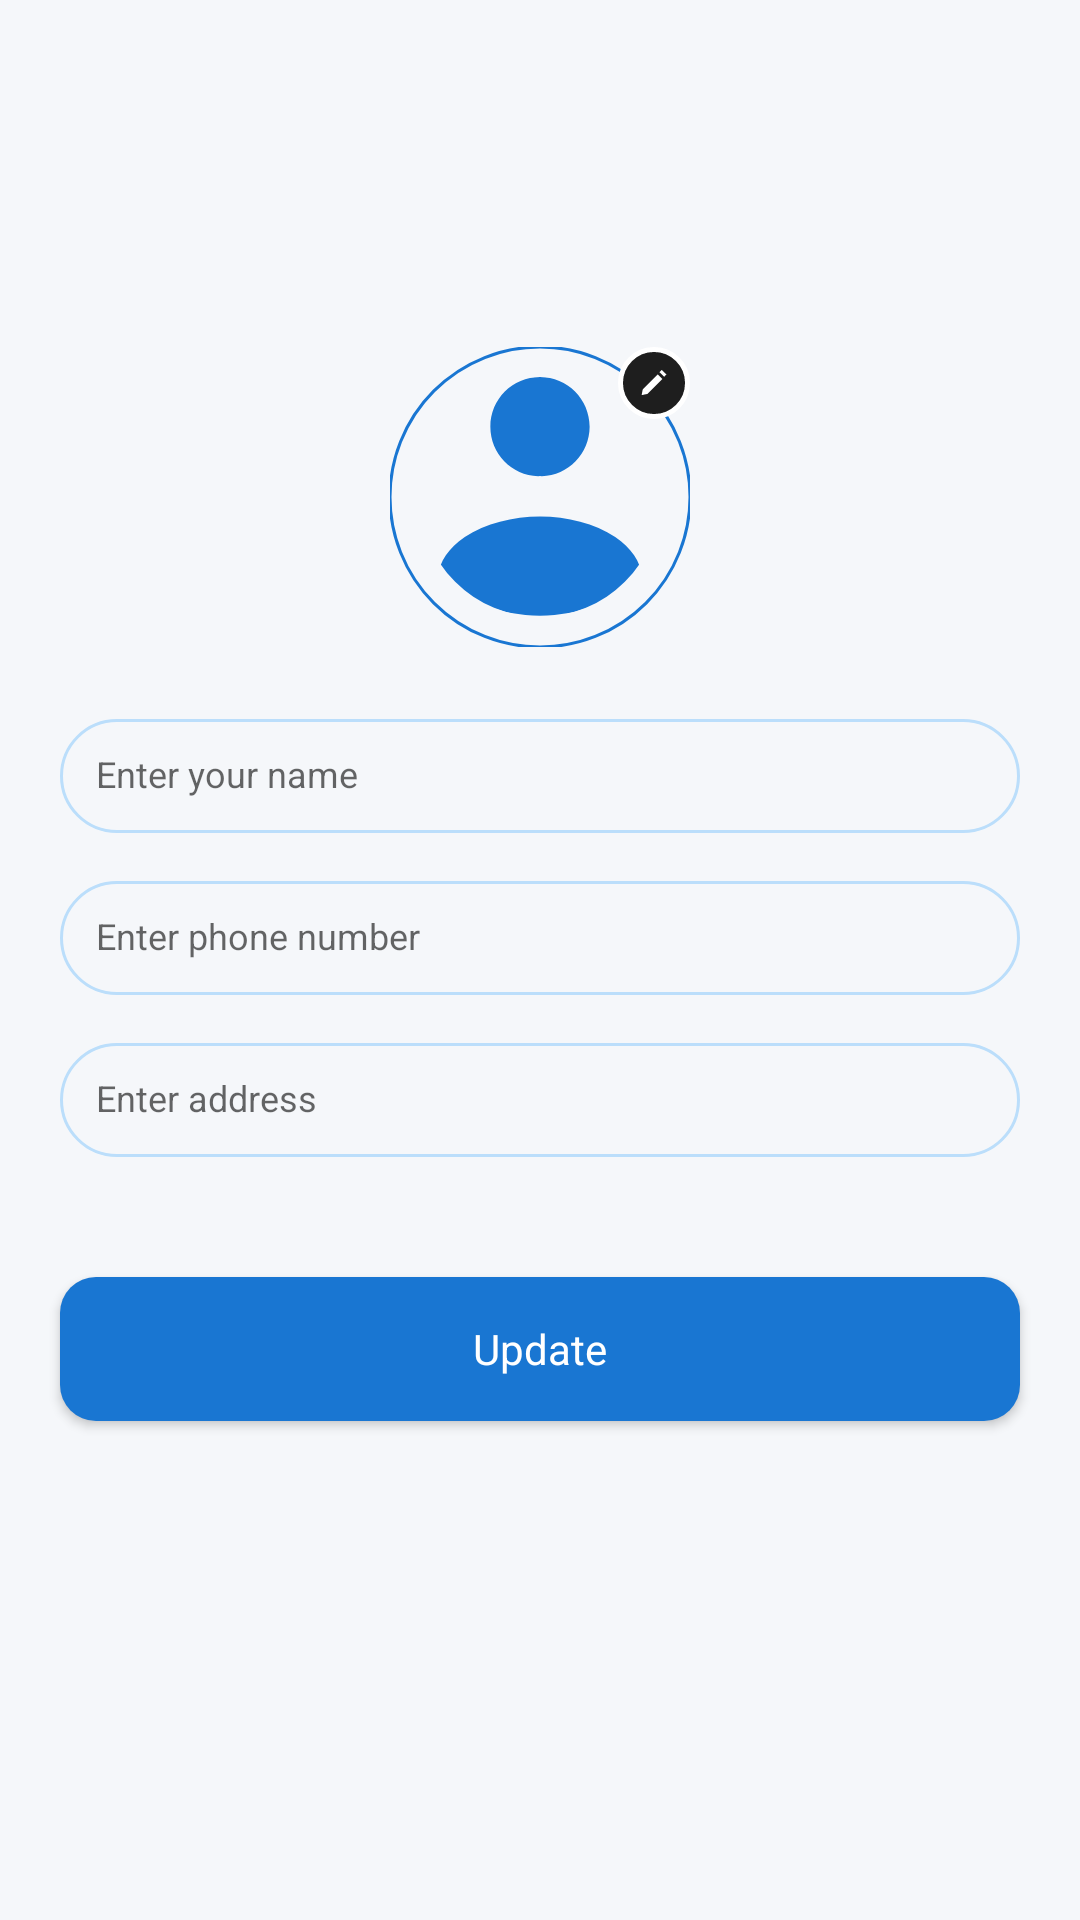

Point at icon controls on the screen. Image size 1080 x 1920, points as [x,y].
edit: [654,383]
profile: [540,496]
